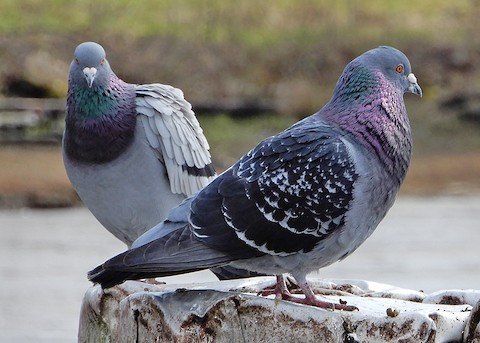pigeon: (83, 43, 443, 313), (58, 35, 271, 297)
